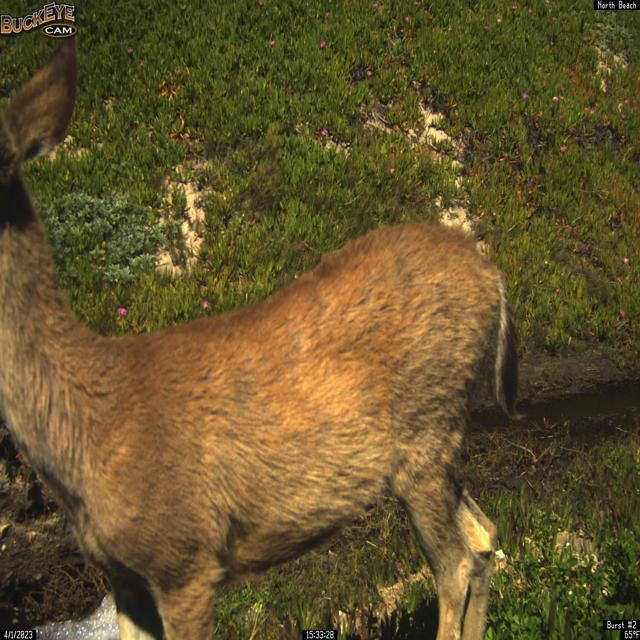deer: (0, 23, 528, 640)
